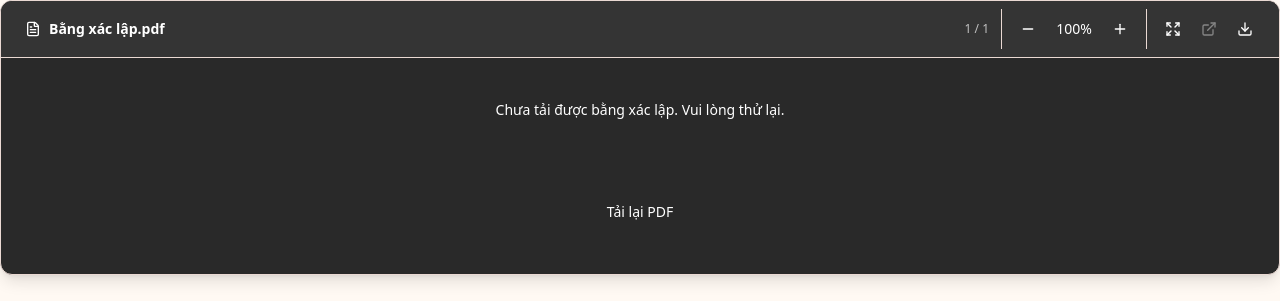
Test case: offers a retry when the PDF could not be fetched
Click the button "Tải lại PDF".
click(640, 212)  # box [597,192,683,232]
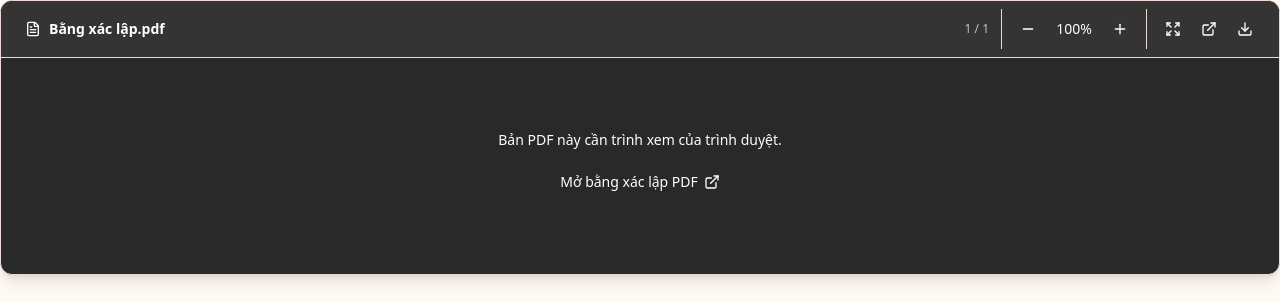
Now the link "Mở bằng xác lập PDF" is shown, box [560,172,720,191]
